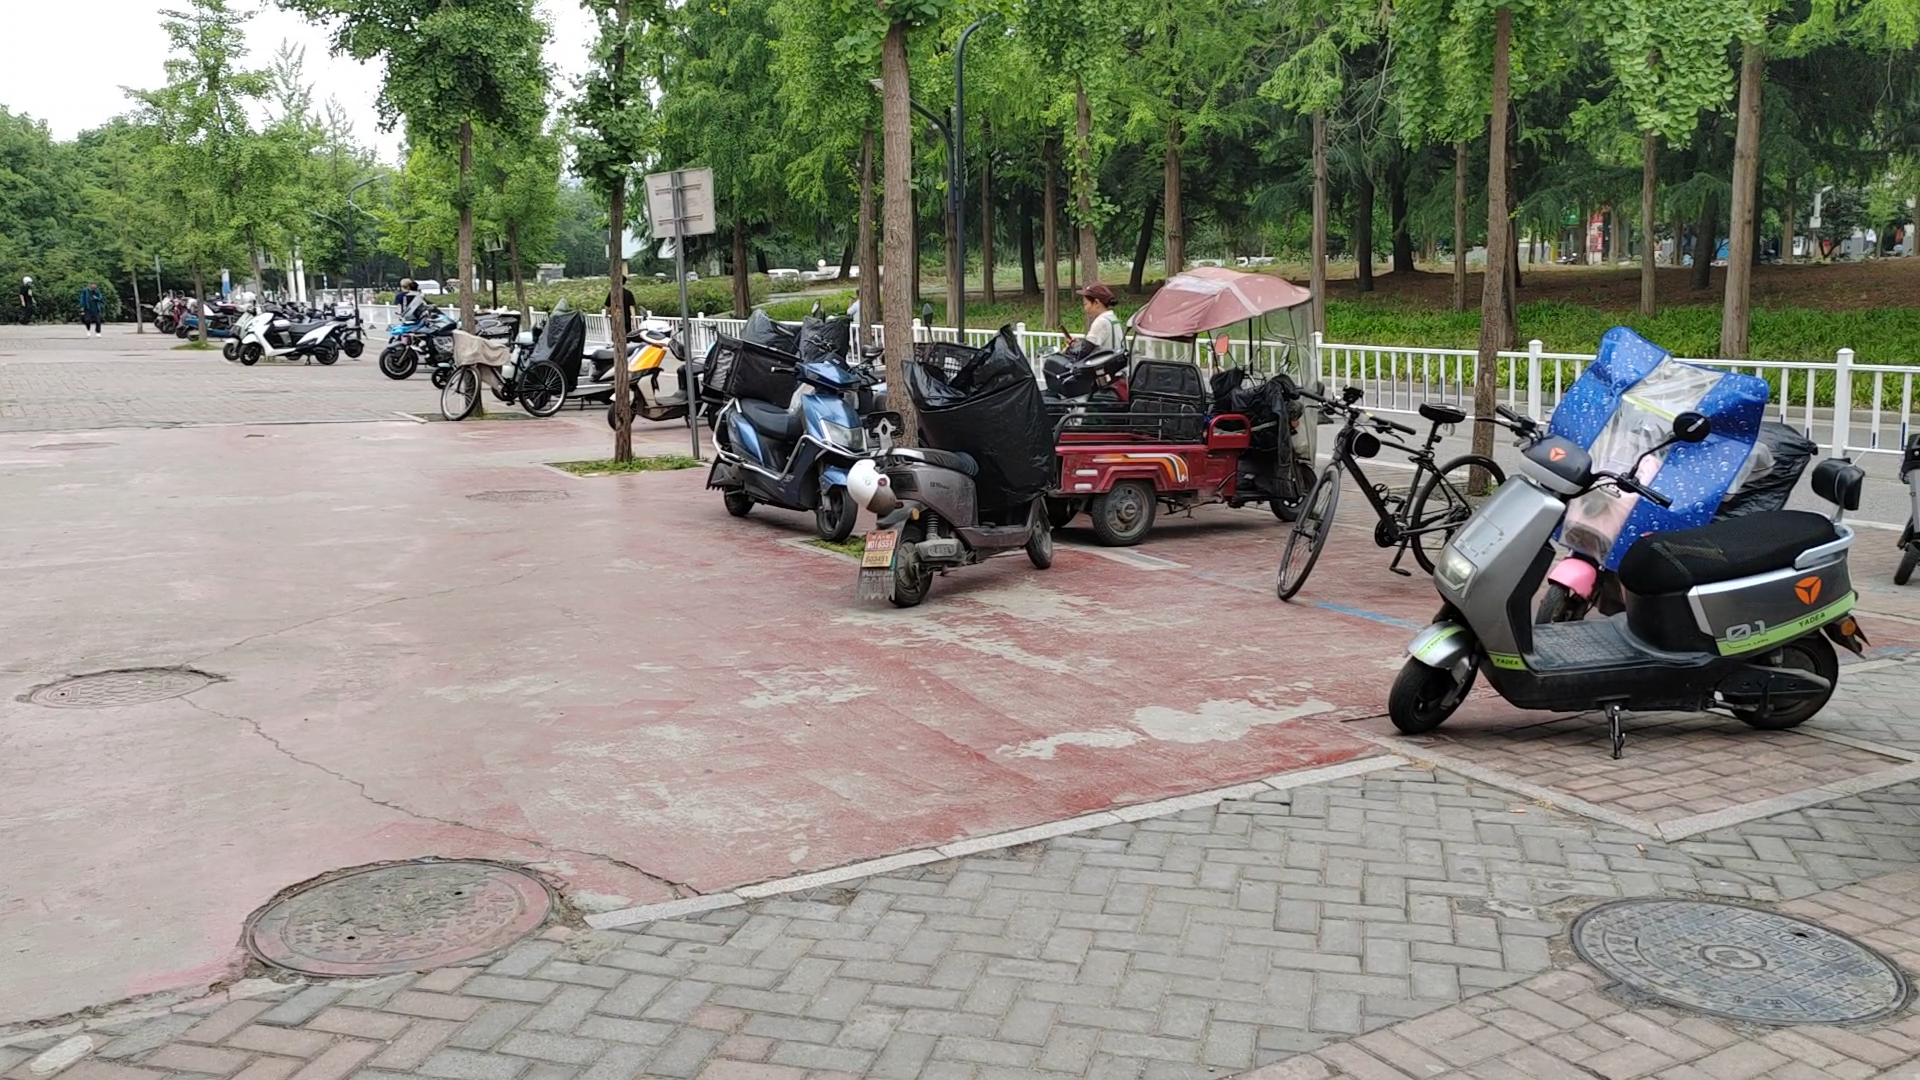others: (1433, 415, 1863, 767), (851, 400, 1096, 593), (676, 314, 870, 547), (1294, 377, 1514, 582), (440, 293, 583, 455), (599, 309, 713, 448), (229, 274, 345, 411), (382, 284, 471, 386)
